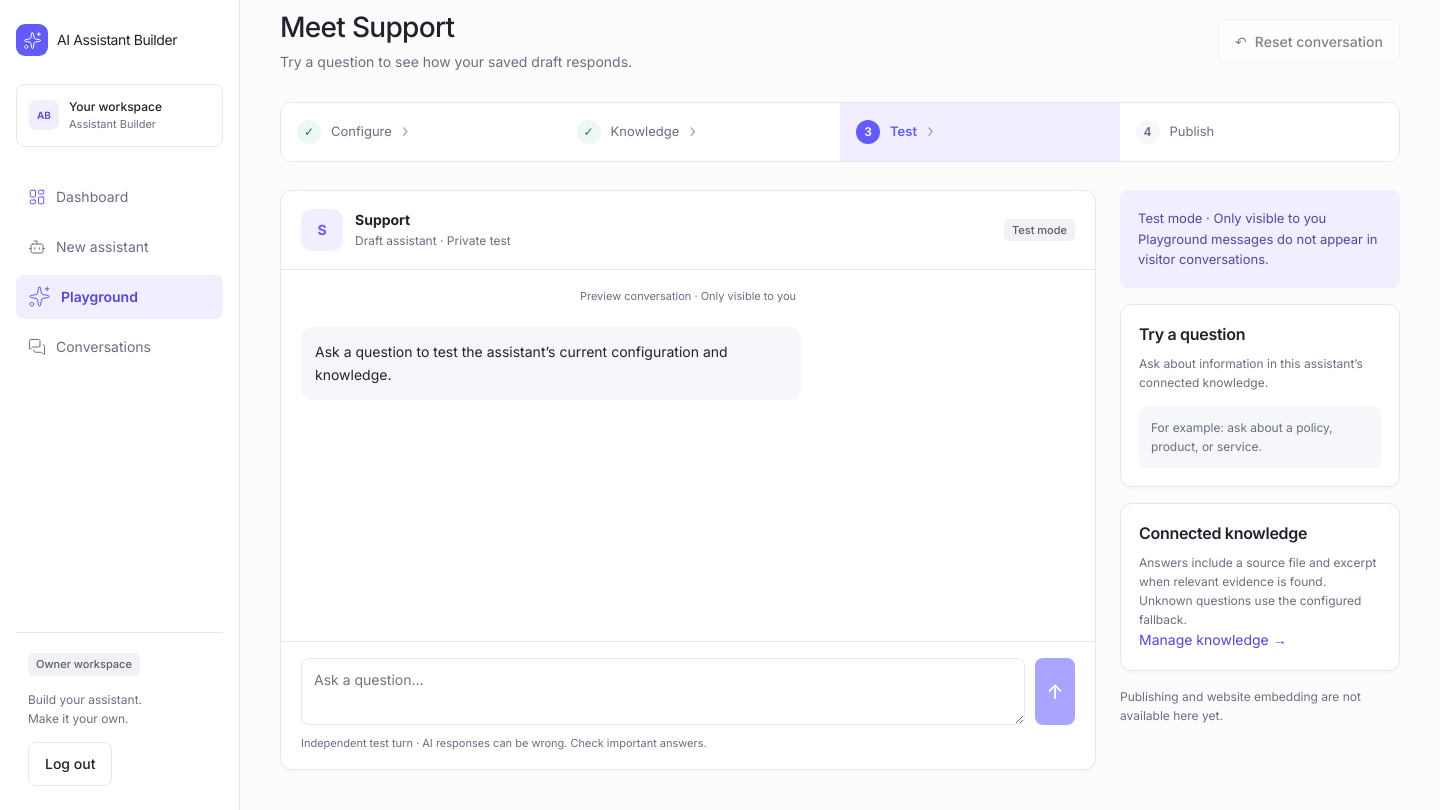
Test: Playground screen › sends one authenticated independent turn and renders server-validated citations
(page scrolled)
Step 1. Type "ما سياسة الإرجاع؟" into the text box named "Ask Support a question" → (663, 692), box [301,658,1025,725]
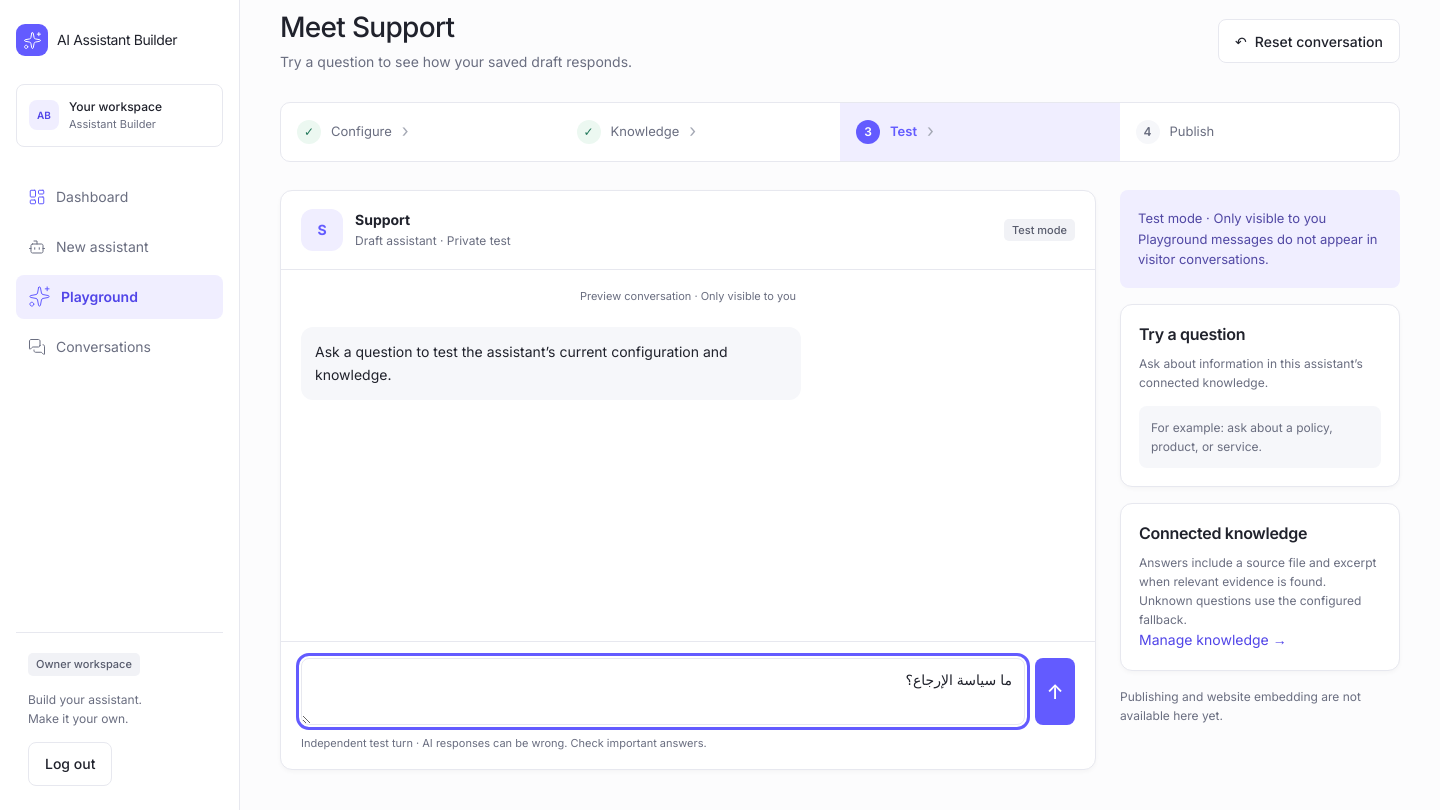
Step 2. Click the button named "Send question" → (1055, 692), box [1035,658,1075,725]
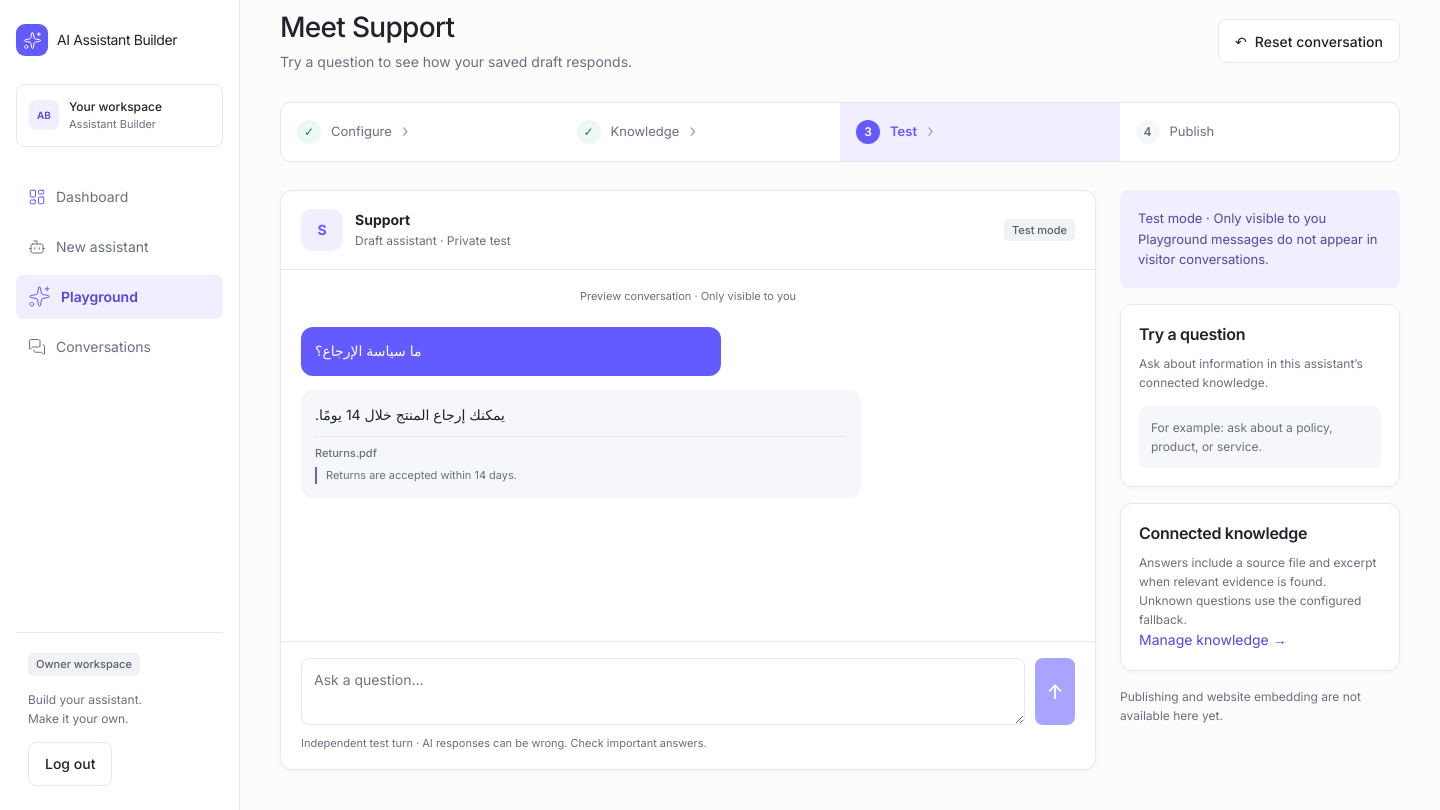
expect the text "يمكنك إرجاع المنتج خلال 14 يومًا." is shown: met, box [315,406,505,423]
expect the text "Returns.pdf" is shown: met, box [315,446,377,460]
expect the text "Returns are accepted within 14 days." is shown: met, box [315,467,847,484]
